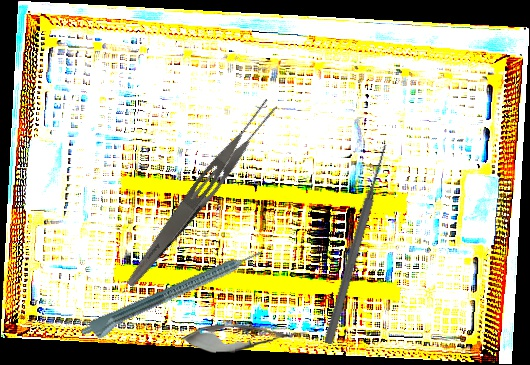Dressing Forceps: (122, 94, 281, 295)
Handpiece: (78, 246, 268, 347)
Micro Scissor: (180, 318, 308, 356)
Pusher: (322, 141, 392, 346)
